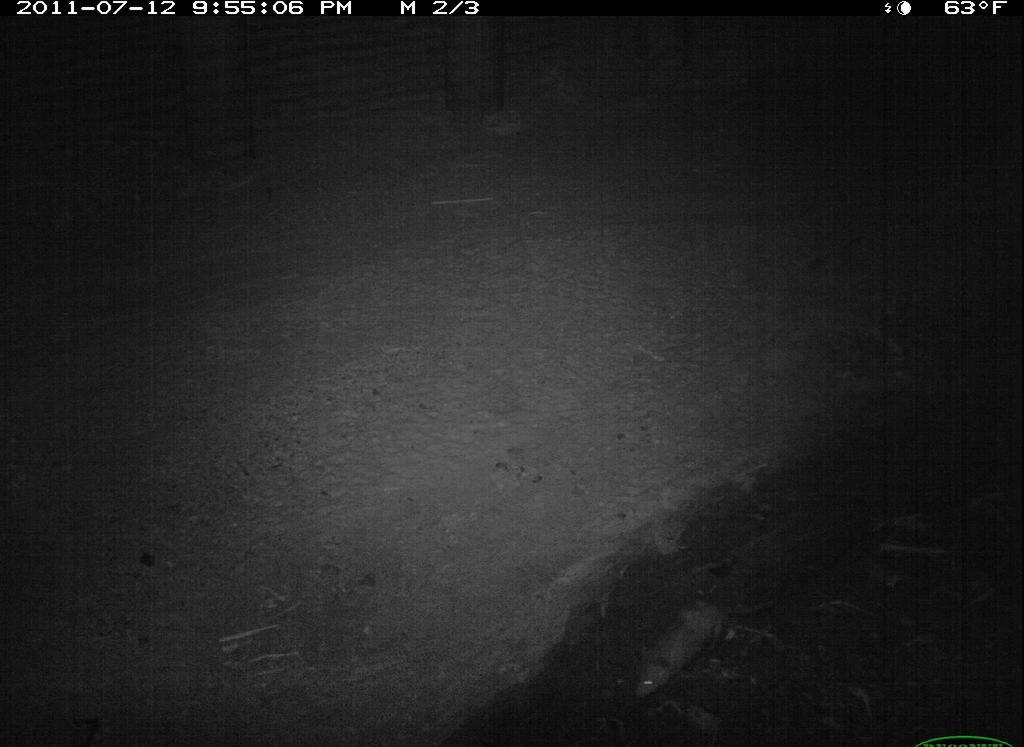opossum: (633, 594, 779, 701)
